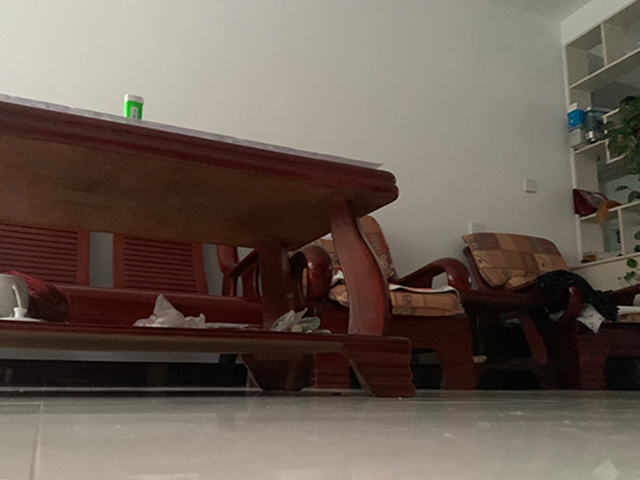sofa: (293, 214, 476, 391), (462, 232, 640, 392)
table: (1, 96, 416, 399), (466, 286, 561, 392)
